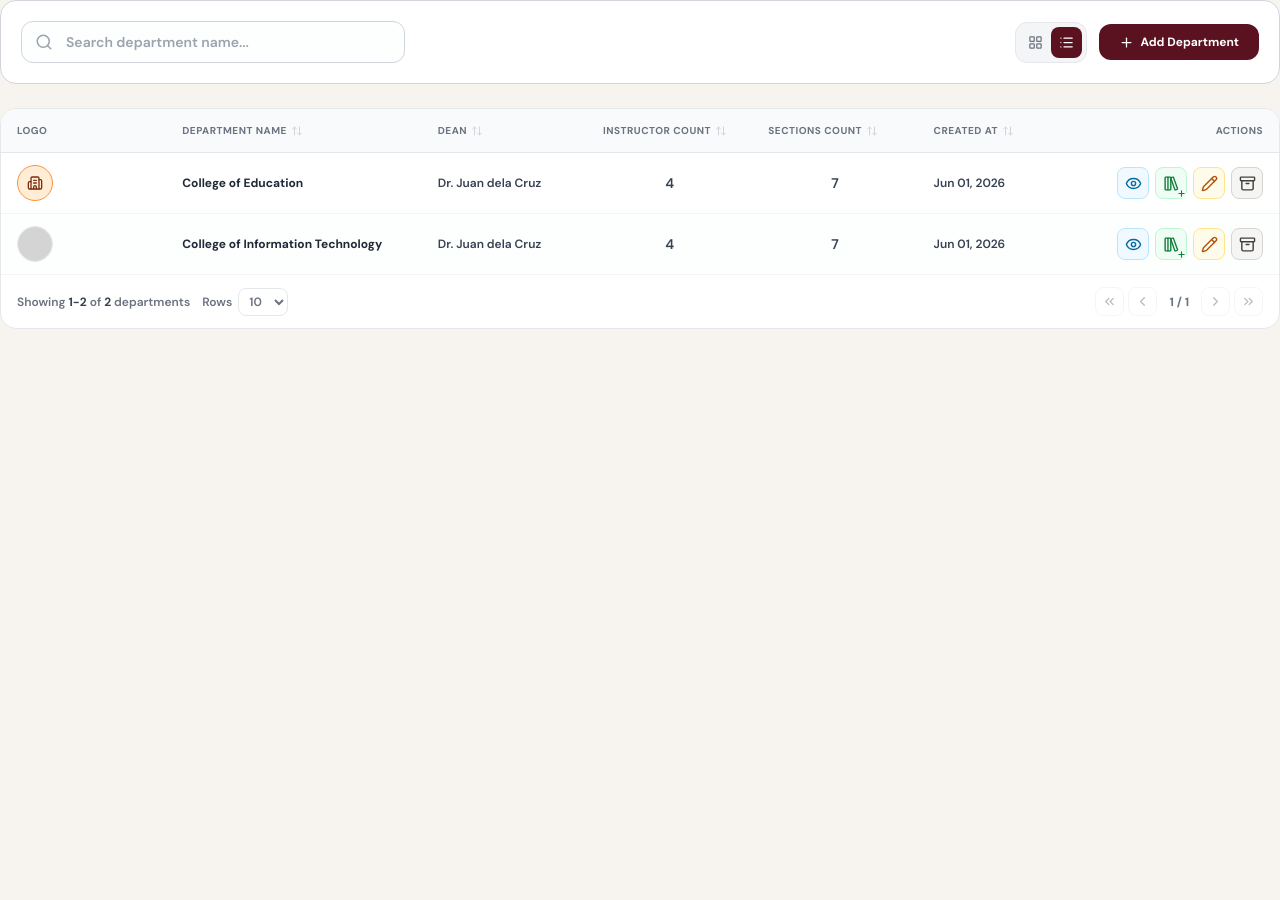
Test: Departments management identifies departments by logo › shows the department details without a scheduling profile
The width and height of the screenshot is (1280, 900).
Click the text "College of Information Technology" at point(294, 244), box [182,236,406,252]
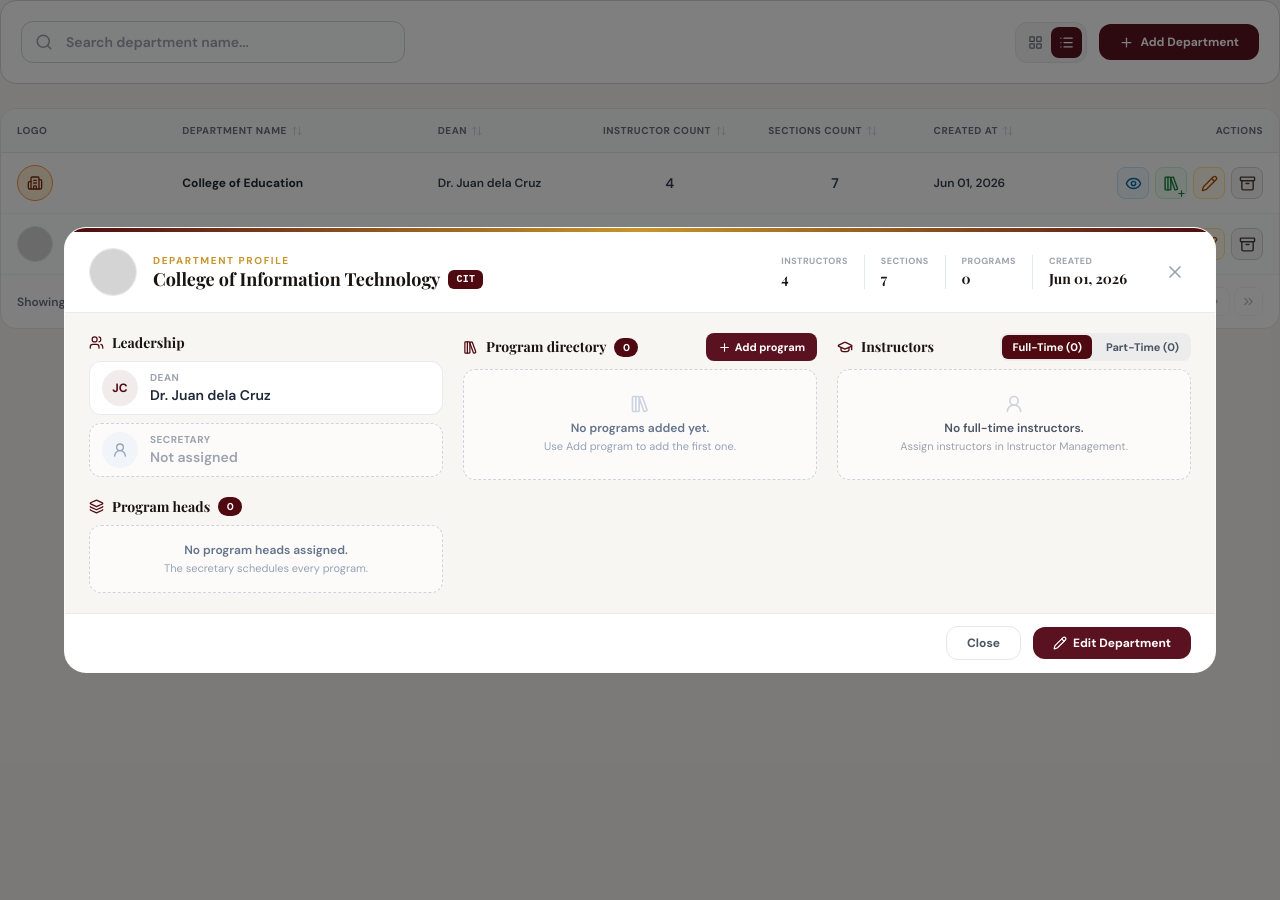
Check: the text "CIT" is shown, box [448,270,483,289]
